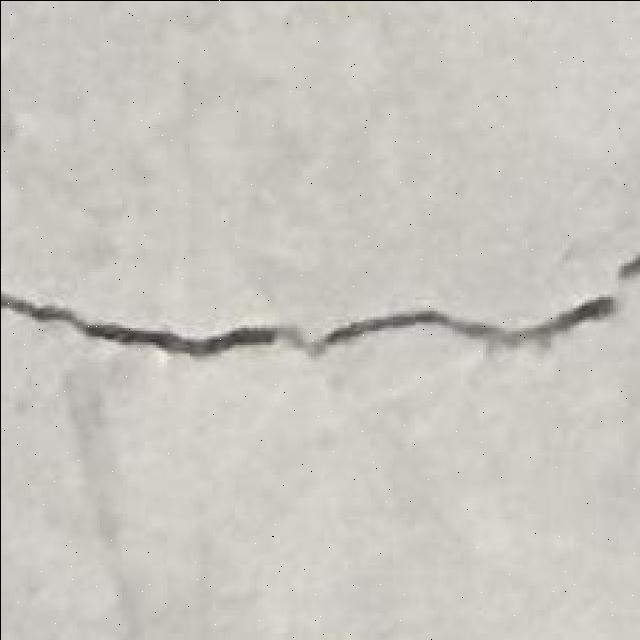crack: (260, 313, 540, 445), (3, 285, 284, 355), (66, 336, 213, 460), (5, 286, 99, 330)
